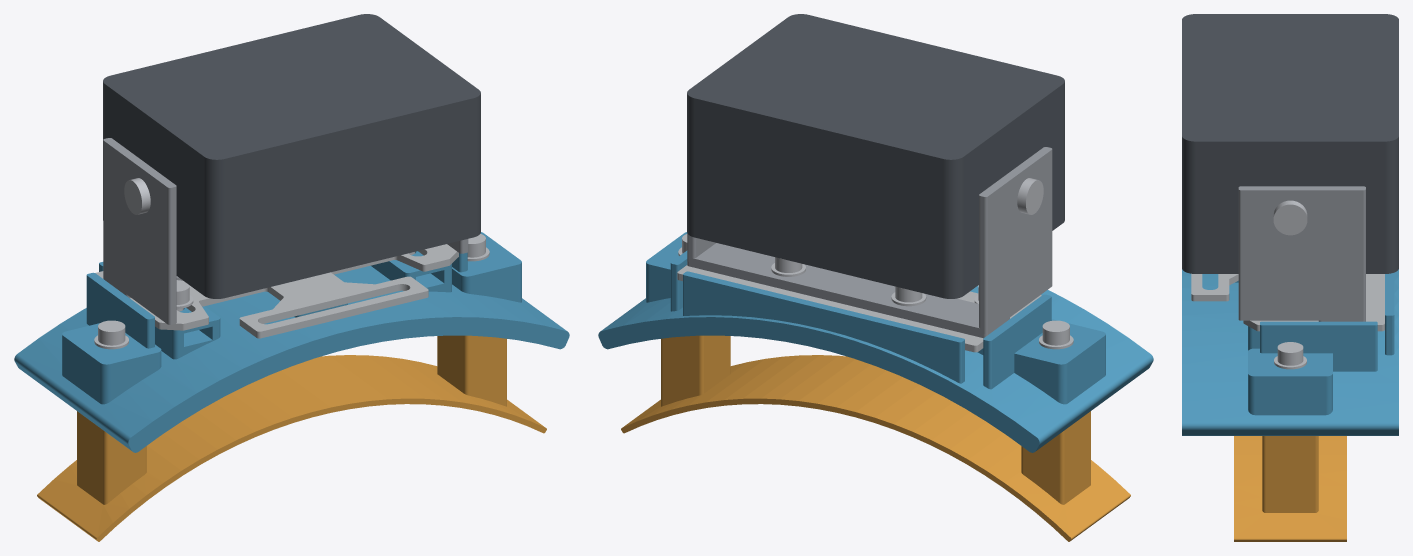
Rendered from PROVA_R05_ASSIEME_SCHEMATICO_NON_STAMPARE.glb.
3 renders of one model, left to right at view 1: azimuth 30°, elevation 25°; view 2: azimuth 150°, elevation 25°; view 3: azimuth 270°, elevation 25°, orthographic. The views are drawn at different scales.
Parts seen in each view (by area): view 1: torcia, base, piastra_interna, U_metallica, farfalla, viti_fermi, perni_torcia_originali; view 2: torcia, base, piastra_interna, U_metallica, farfalla, fissaggi_U_originali, viti_fermi, perni_torcia_originali; view 3: torcia, base, U_metallica, piastra_interna, farfalla, perni_torcia_originali, viti_fermi.
Part boxes in pixels (x1,y1,x2,y2): torcia: [103, 14, 480, 298]; base: [14, 232, 569, 452]; piastra_interna: [37, 335, 546, 541]; U_metallica: [103, 138, 468, 324]; farfalla: [95, 244, 458, 338]; viti_fermi: [94, 234, 489, 349]; perni_torcia_originali: [124, 178, 150, 214]; torcia: [687, 14, 1064, 298]; base: [598, 232, 1153, 452]; piastra_interna: [621, 335, 1130, 541]; U_metallica: [687, 147, 1052, 338]; farfalla: [677, 265, 1041, 352]; fissaggi_U_originali: [771, 257, 926, 306]; viti_fermi: [678, 234, 1073, 349]; perni_torcia_originali: [1017, 178, 1043, 214]; torcia: [1182, 14, 1398, 273]; base: [1182, 269, 1398, 435]; U_metallica: [1238, 186, 1365, 321]; piastra_interna: [1234, 436, 1346, 541]; farfalla: [1191, 273, 1384, 331]; perni_torcia_originali: [1273, 200, 1307, 235]; viti_fermi: [1274, 342, 1306, 369].
Size of the model in its own units: 0.1049 by 0.0844 by 0.046.
